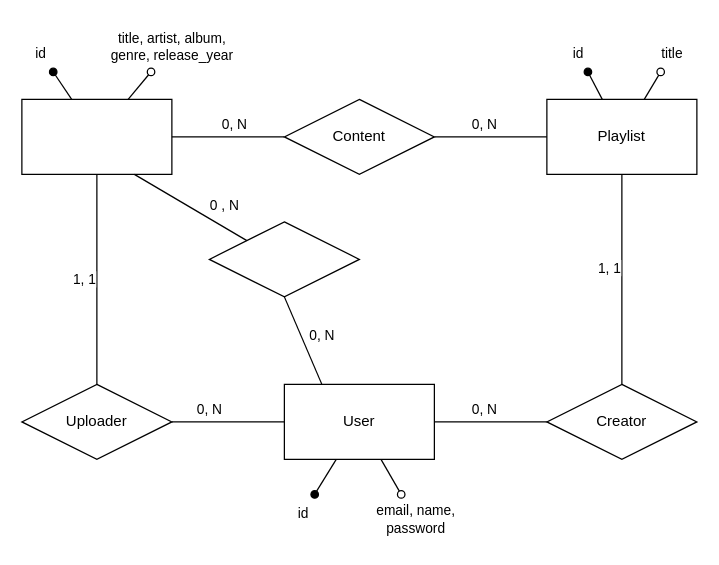
This 719x565 diagram has some shape labels left out. Each missing label, with the centre of its shape:
"Likes" goes at (283,259).
"Song" goes at (96,136).
